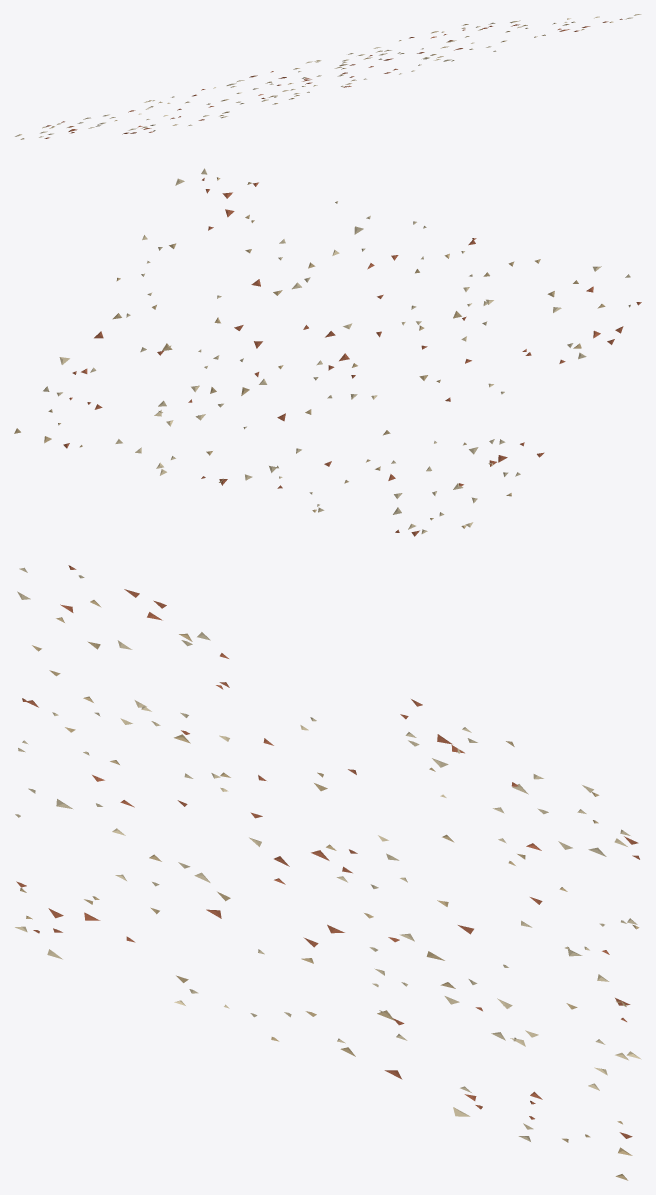
File: dam_eye_mouth_detail2.glb
3 renders of one model, top to bottom at view 1: azimuth 30°, elevation 25°; view 2: azimuth 150°, elevation 25°; view 3: azimuth 270°, elevation 25°, orthographic. The views are drawn at different scales.
Visible parts, largest first — view 1: dam_eye_mouth_detail2; view 2: dam_eye_mouth_detail2; view 3: dam_eye_mouth_detail2.
Boxes of the visible parts, x1=… form: dam_eye_mouth_detail2: x1=15, y1=14, x2=641, y2=139; dam_eye_mouth_detail2: x1=14, y1=168, x2=641, y2=536; dam_eye_mouth_detail2: x1=15, y1=565, x2=641, y2=1180.
Bounding box in the file's own units: 29.92 × 8.63 × 19.84.
